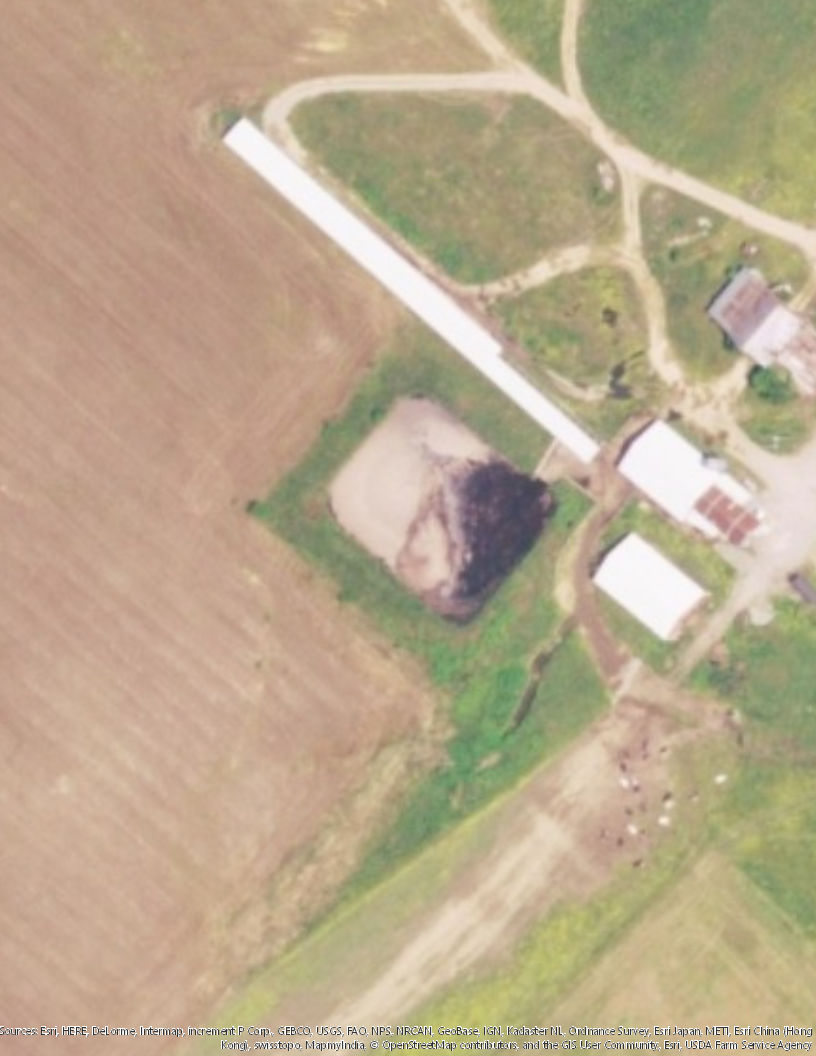cafo: (612, 414, 773, 548), (584, 532, 717, 644)
